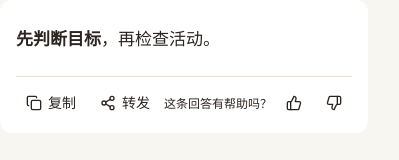
Test: HAI assistant message actions › copies the full assistant answer
What coordinates should you click on to do the following:
click the button with aria-label "复制这条回答"
I would click on:
 (51, 103)
Its box is left=16, top=85, right=86, bottom=121.
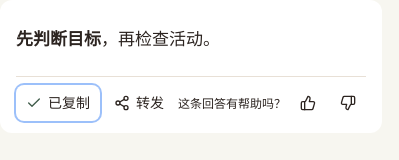
Result: the button "已复制" is shown at left=16, top=85, right=100, bottom=121
